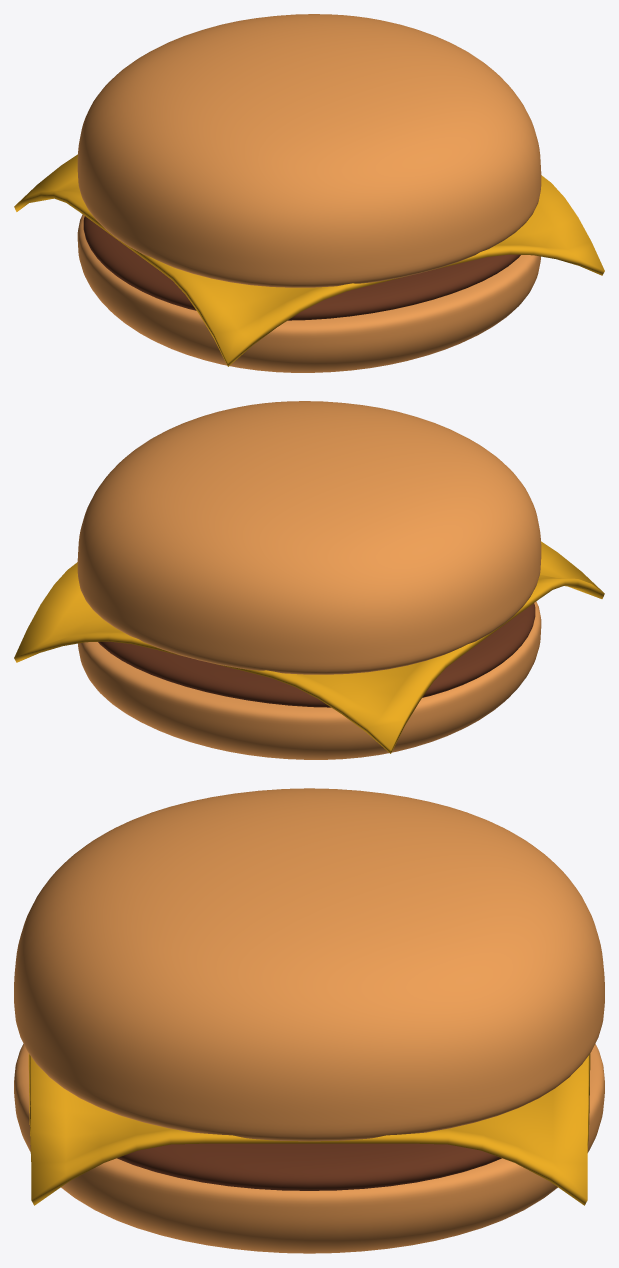
File: hamburger.glb
3 views of the same model, one above another, from view 1: azimuth 30°, elevation 25°; view 2: azimuth 150°, elevation 25°; view 3: azimuth 270°, elevation 25° (orthographic). The views are drawn at different scales.
Parts seen in each view (by area): view 1: Cube.002, Cube, Plane, Cube.001; view 2: Cube.002, Cube, Plane, Cube.001; view 3: Cube.002, Cube, Plane, Cube.001.
Boxes of the visible parts, x1=… form: Cube.002: x1=77, y1=14, x2=541, y2=287; Cube: x1=77, y1=214, x2=540, y2=372; Plane: x1=14, y1=154, x2=604, y2=366; Cube.001: x1=83, y1=216, x2=520, y2=320; Cube.002: x1=77, y1=401, x2=541, y2=674; Cube: x1=78, y1=601, x2=541, y2=759; Plane: x1=14, y1=541, x2=604, y2=753; Cube.001: x1=98, y1=603, x2=535, y2=707; Cube.002: x1=14, y1=788, x2=604, y2=1141; Cube: x1=14, y1=1044, x2=604, y2=1253; Plane: x1=28, y1=1053, x2=590, y2=1205; Cube.001: x1=117, y1=1143, x2=501, y2=1190.
Size of the model in its own units: 1.83 by 1.11 by 1.83.
